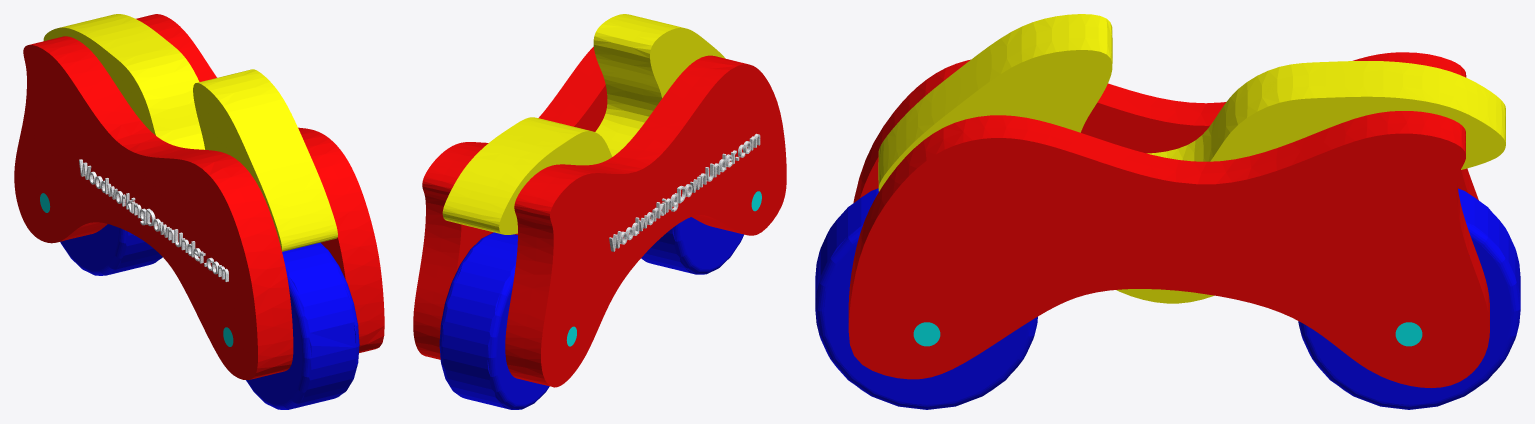
The model's file is Toy_3.fbx.
3 renders of one model, left to right at view 1: azimuth 30°, elevation 25°; view 2: azimuth 150°, elevation 25°; view 3: azimuth 270°, elevation 25°, orthographic. The views are drawn at different scales.
Parts seen in each view (by area): view 1: Group_5, Group_4, Group_2, Group_3, WoodworkingDownU_1_1; view 2: Group_5, Group_4, Group_3, Group_2, WoodworkingDownU_1_1; view 3: Group_5, Group_4, Group_2, Group_3.
Part boxes in pixels (box(x1,y1,x2,y2)): Group_5: box(14, 14, 384, 379); Group_4: box(43, 14, 337, 251); Group_2: box(246, 242, 359, 409); Group_3: box(60, 224, 162, 275); WoodworkingDownU_1_1: box(79, 159, 228, 281); Group_5: box(413, 47, 786, 387); Group_4: box(442, 14, 725, 234); Group_3: box(439, 232, 549, 409); Group_2: box(641, 217, 743, 274); WoodworkingDownU_1_1: box(609, 133, 760, 251); Group_5: box(848, 52, 1489, 387); Group_4: box(878, 14, 1505, 303); Group_2: box(815, 188, 1037, 409); Group_3: box(1298, 188, 1520, 409).
Bounding box in the file's own units: 4.41 × 8.98 × 15.81.
